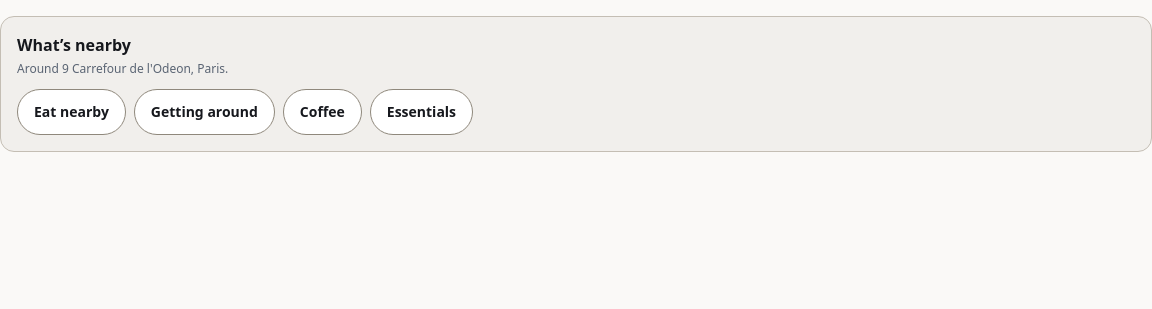
Test: what is nearby › says a model wrote it
Click the button "Eat nearby". click: (71, 112)
box: [17,89,126,135]
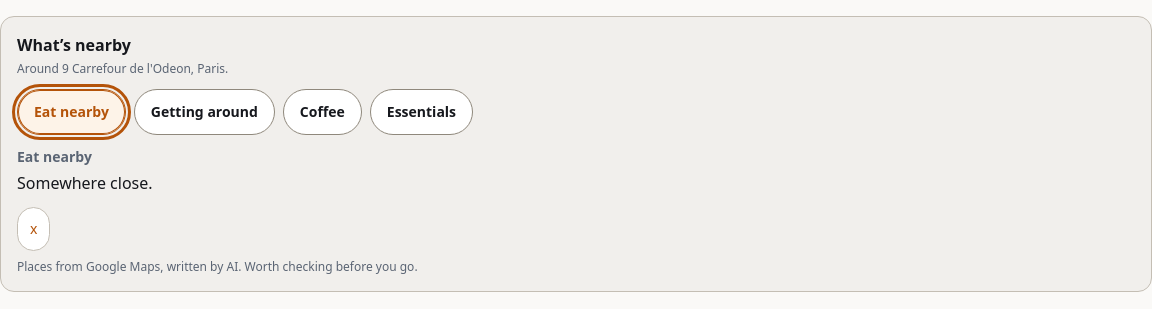
Result: the text "written by AI" is shown at [160,258,418,275]
